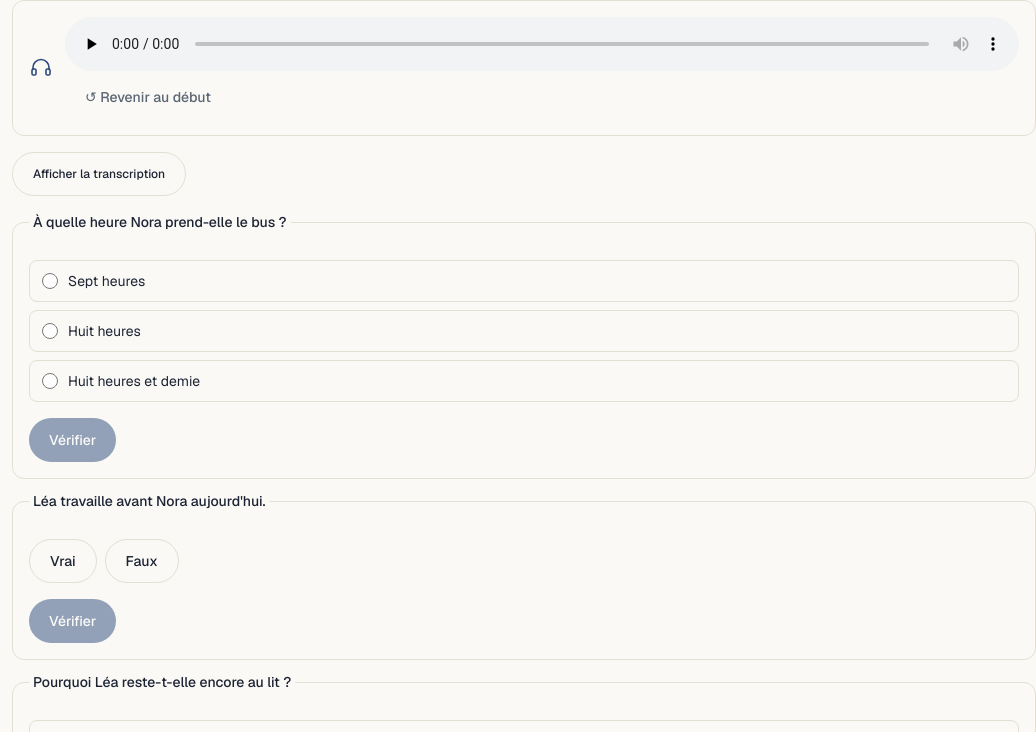
Test: AudioExercise appliqué à une piste A2 › le bouton d'affichage de la transcription porte aria-expanded et bascule son état
Click the button "Afficher la transcription": (99, 174) [12,152,186,196]
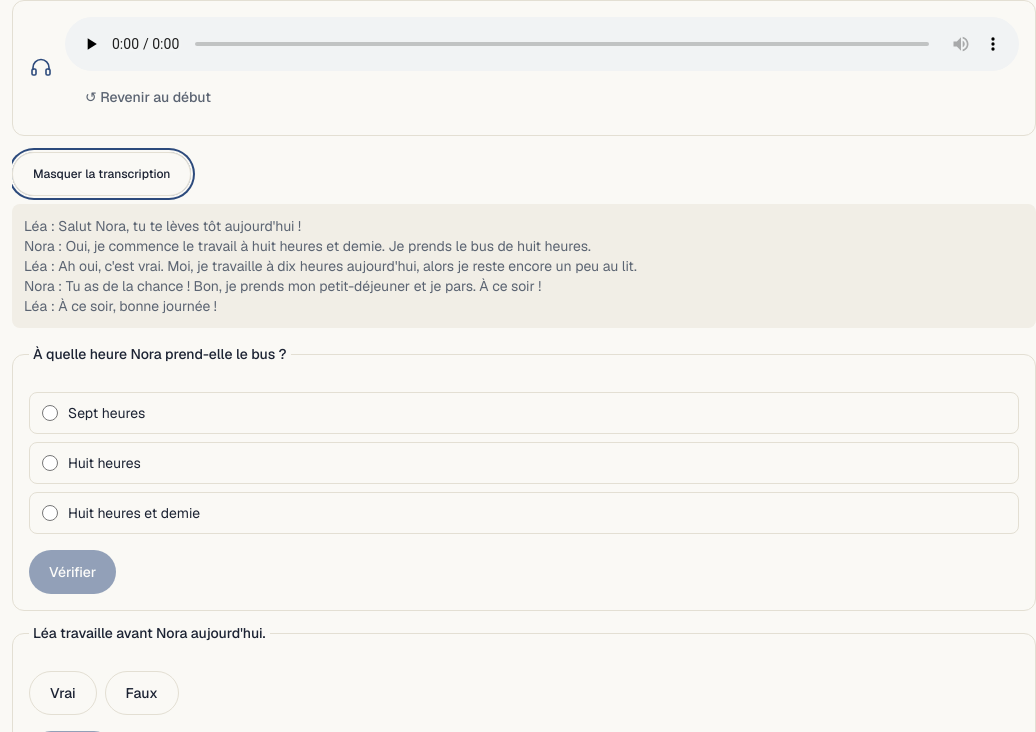
Now the button "Masquer la transcription" is expanded, box [12,152,191,196]
